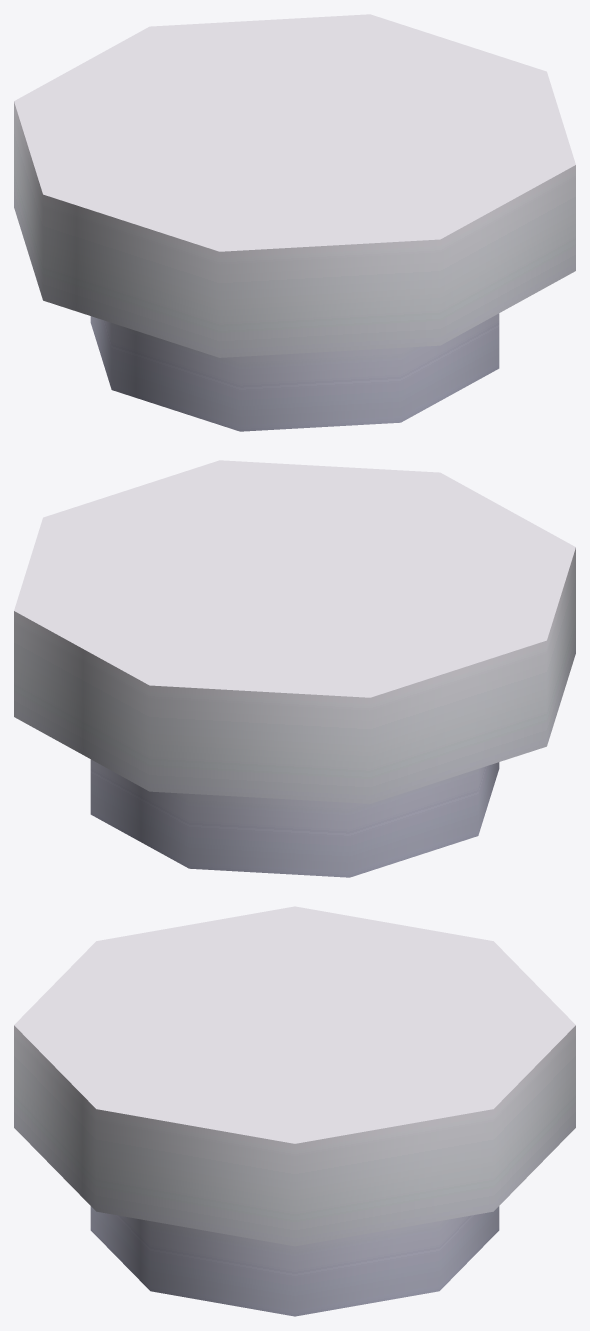
The model's file is none-lq-plate-1x1-round.glb.
3 views of the same model, one above another, from view 1: azimuth 30°, elevation 25°; view 2: azimuth 150°, elevation 25°; view 3: azimuth 270°, elevation 25° (orthographic). The views are drawn at different scales.
Parts seen in each view (by area): view 1: none-lq-plate-1x1-round; view 2: none-lq-plate-1x1-round; view 3: none-lq-plate-1x1-round.
Part boxes in pixels (x1=…): none-lq-plate-1x1-round: x1=14, y1=14, x2=575, y2=431; none-lq-plate-1x1-round: x1=14, y1=460, x2=575, y2=877; none-lq-plate-1x1-round: x1=14, y1=906, x2=575, y2=1316.
Size of the model in its own units: 0.0795 by 0.032 by 0.0795.
1 material, 1 textured.
